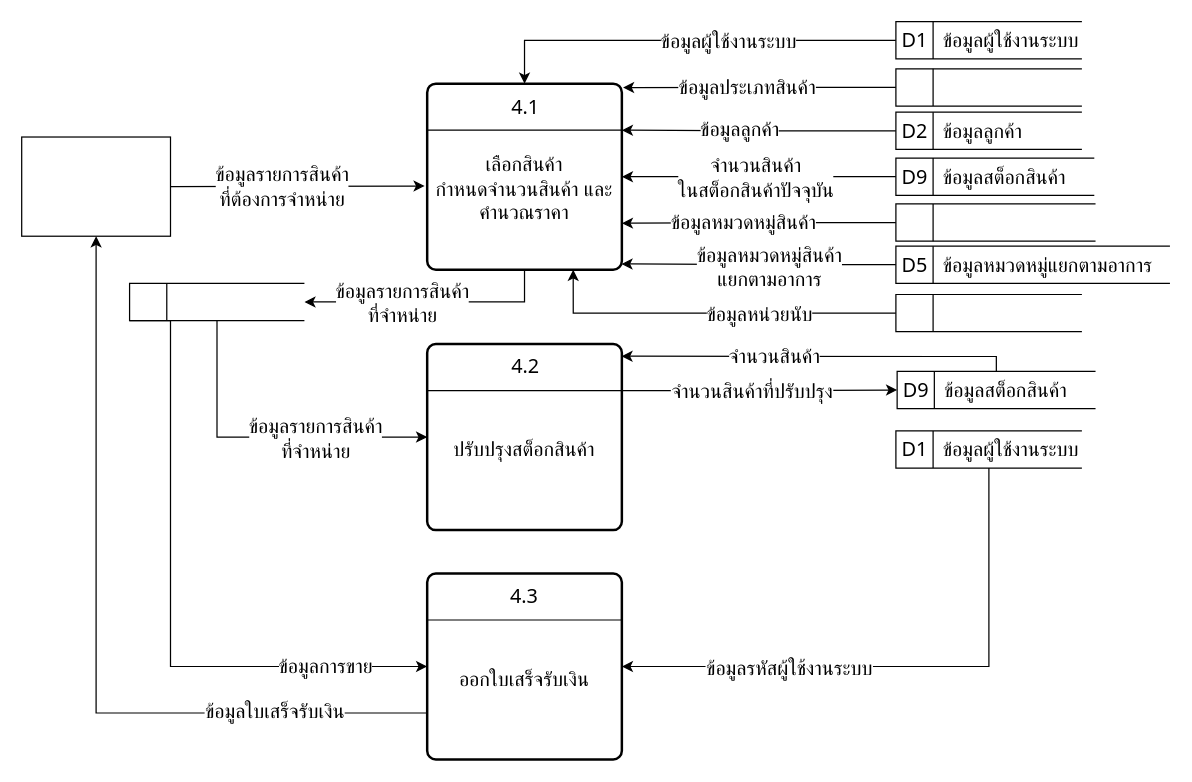
Some shapes in this 1192 by 782 pixel diagram are drawn without their labels. Here are the shapes that lost their labels. From the top down, the box of each, then its label:
(895, 68, 1082, 106): D7 ข้อมูลประเภทสินค้า
(20, 136, 170, 236): เภสัชกร
(895, 203, 1096, 241): D4 ข้อมูลหมวดหมู่สินค้า
(128, 282, 304, 321): D14 ข้อมูลการขาย
(895, 293, 1082, 332): D6 ข้อมูลหน่วยนับ
